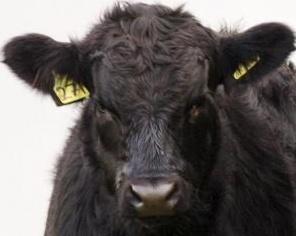muzzles: (122, 176, 184, 217)
